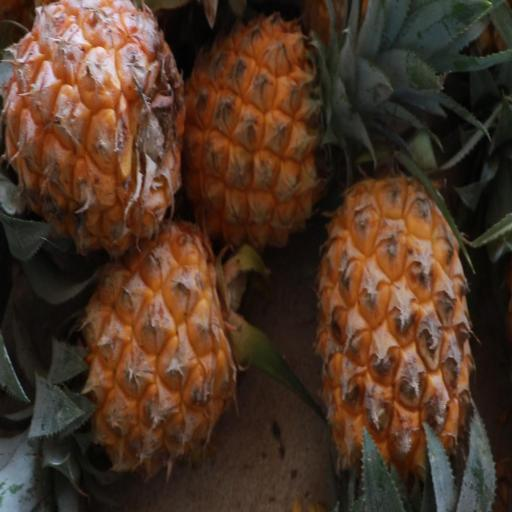Pineapple - v8 v1: (307, 161, 486, 511), (53, 211, 241, 485), (0, 0, 191, 263), (176, 4, 360, 260)
